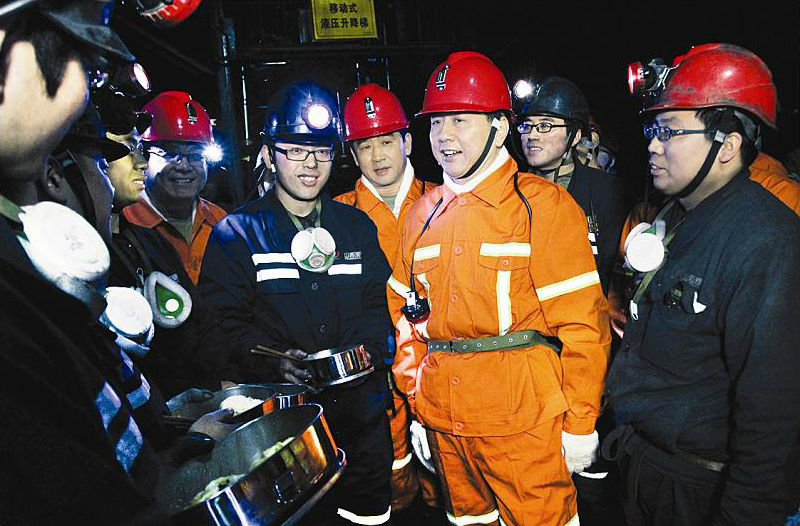helmet: (622, 36, 771, 202), (415, 47, 509, 180), (254, 82, 342, 197), (138, 89, 223, 202), (517, 69, 591, 173), (346, 84, 413, 185)
